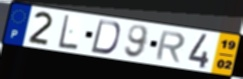2: (27, 12, 54, 47)
4: (187, 32, 211, 70)
9: (124, 25, 150, 59)
D: (89, 18, 122, 55)
L: (57, 13, 80, 51)
R: (153, 30, 187, 64)
